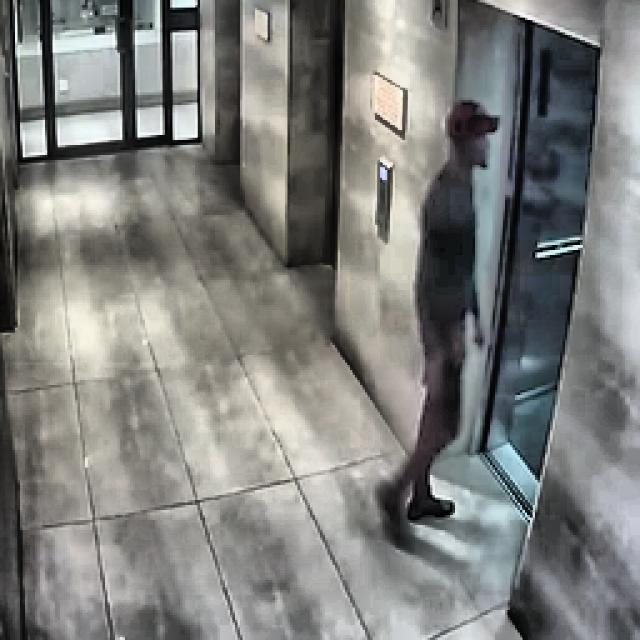Human: (376, 97, 504, 570)
